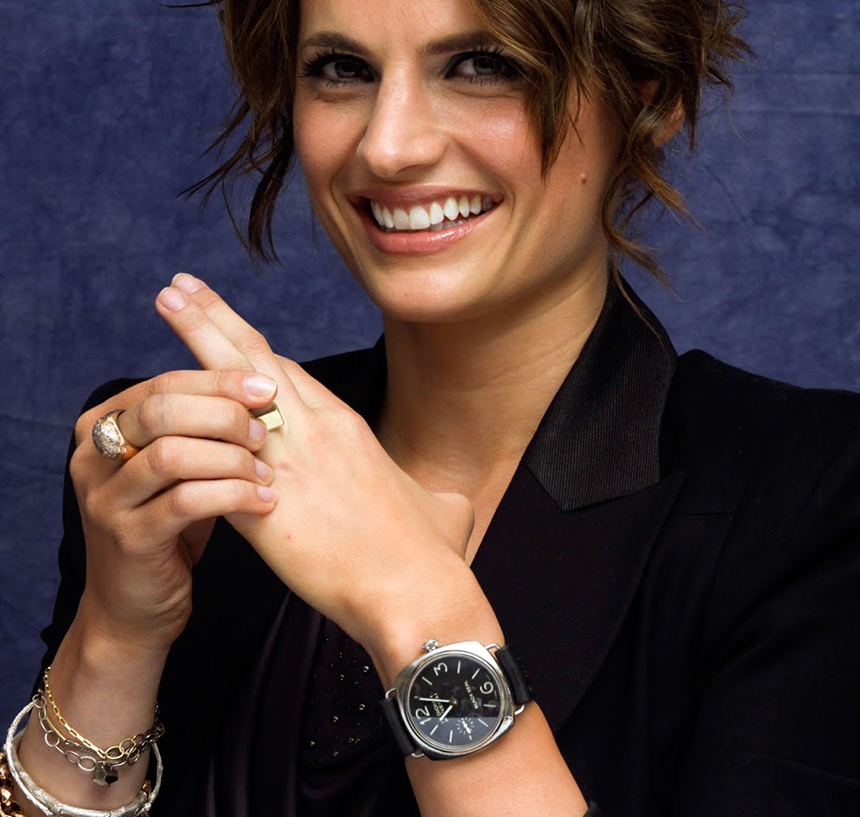clock: (405, 657, 503, 754)
